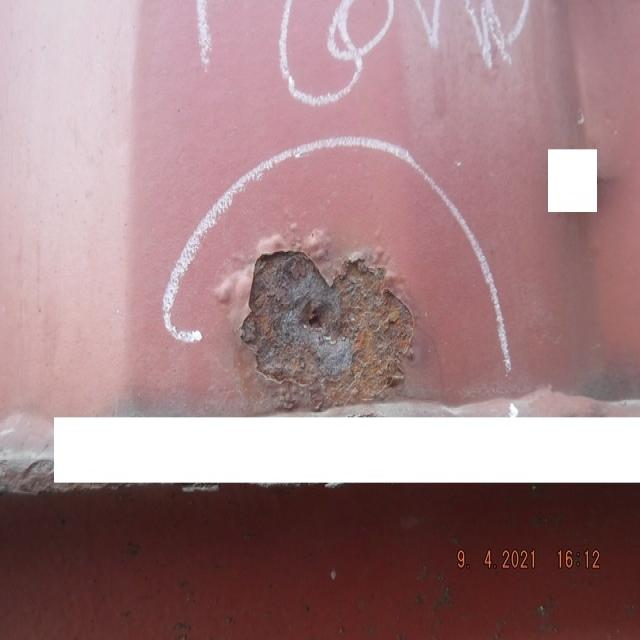rust: (212, 216, 419, 414)
